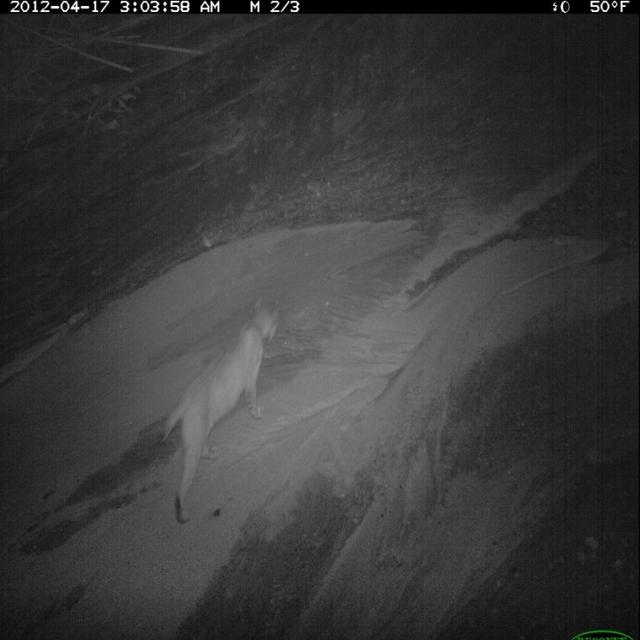bobcat: (153, 288, 285, 534)
